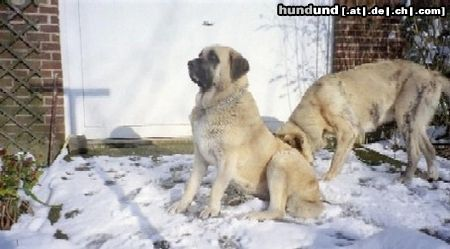mastin_espanol: (165, 43, 325, 220), (275, 59, 450, 184)
